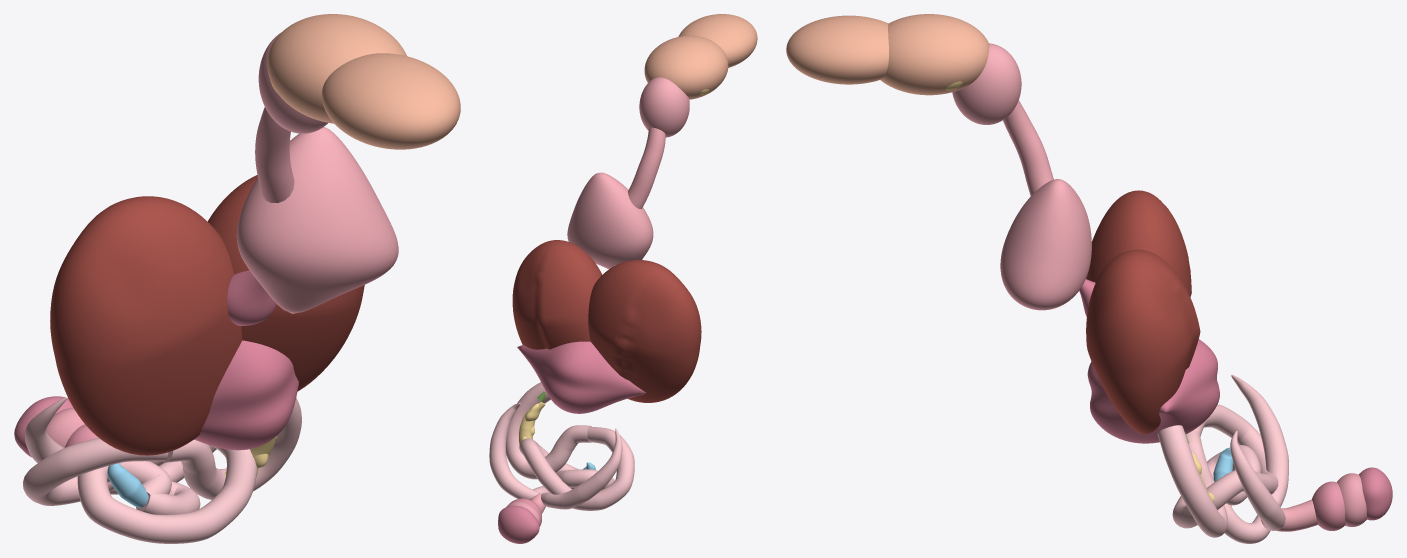
The model's file is digestive_system.glb.
The picture shows the model from 3 angles, left to right: view 1: azimuth 30°, elevation 25°; view 2: azimuth 150°, elevation 25°; view 3: azimuth 270°, elevation 25°; orthographic projection. The views are drawn at different scales.
Visible parts, largest first — view 1: liver, crop, jejunum, beak, oral_cavity, gizzard, duodenum, esophagus, cloaca, proventriculus, pharynx, ceca (+2 smaller); view 2: liver, crop, gizzard, jejunum, oral_cavity, ceca, duodenum, pharynx, beak, cloaca, esophagus, pancreas; view 3: liver, crop, oral_cavity, beak, gizzard, ceca, duodenum, jejunum, cloaca, pharynx, esophagus, ileum (+1 smaller).
Boxes of the visible parts, <box> form: liver: <box>50,175,364,455</box>; crop: <box>236,127,398,313</box>; jejunum: <box>23,438,257,543</box>; beak: <box>322,53,460,149</box>; oral_cavity: <box>267,14,406,123</box>; gizzard: <box>194,340,298,450</box>; duodenum: <box>161,398,301,499</box>; esophagus: <box>255,107,294,202</box>; cloaca: <box>14,396,98,457</box>; proventriculus: <box>227,270,276,325</box>; pharynx: <box>258,32,327,133</box>; ceca: <box>25,397,216,494</box>; liver: <box>512,240,701,402</box>; crop: <box>567,172,653,268</box>; gizzard: <box>517,341,646,413</box>; jejunum: <box>519,426,634,510</box>; oral_cavity: <box>644,35,728,99</box>; ceca: <box>489,403,622,509</box>; duodenum: <box>506,382,591,479</box>; pharynx: <box>639,77,689,137</box>; beak: <box>678,14,757,67</box>; cloaca: <box>498,498,541,543</box>; esophagus: <box>628,127,665,208</box>; pancreas: <box>519,402,545,444</box>; liver: <box>1086,190,1200,433</box>; crop: <box>1000,179,1091,310</box>; oral_cavity: <box>880,14,989,95</box>; beak: <box>786,15,888,84</box>; gizzard: <box>1087,339,1219,443</box>; ceca: <box>1230,374,1288,530</box>; duodenum: <box>1157,425,1227,537</box>; jejunum: <box>1172,404,1278,528</box>; cloaca: <box>1312,467,1392,530</box>; pharynx: <box>952,43,1021,124</box>; esophagus: <box>1003,100,1053,195</box>; ileum: <box>1224,503,1270,543</box>.
Bounding box in the file's own units: 1.09 × 2.21 × 2.42.
